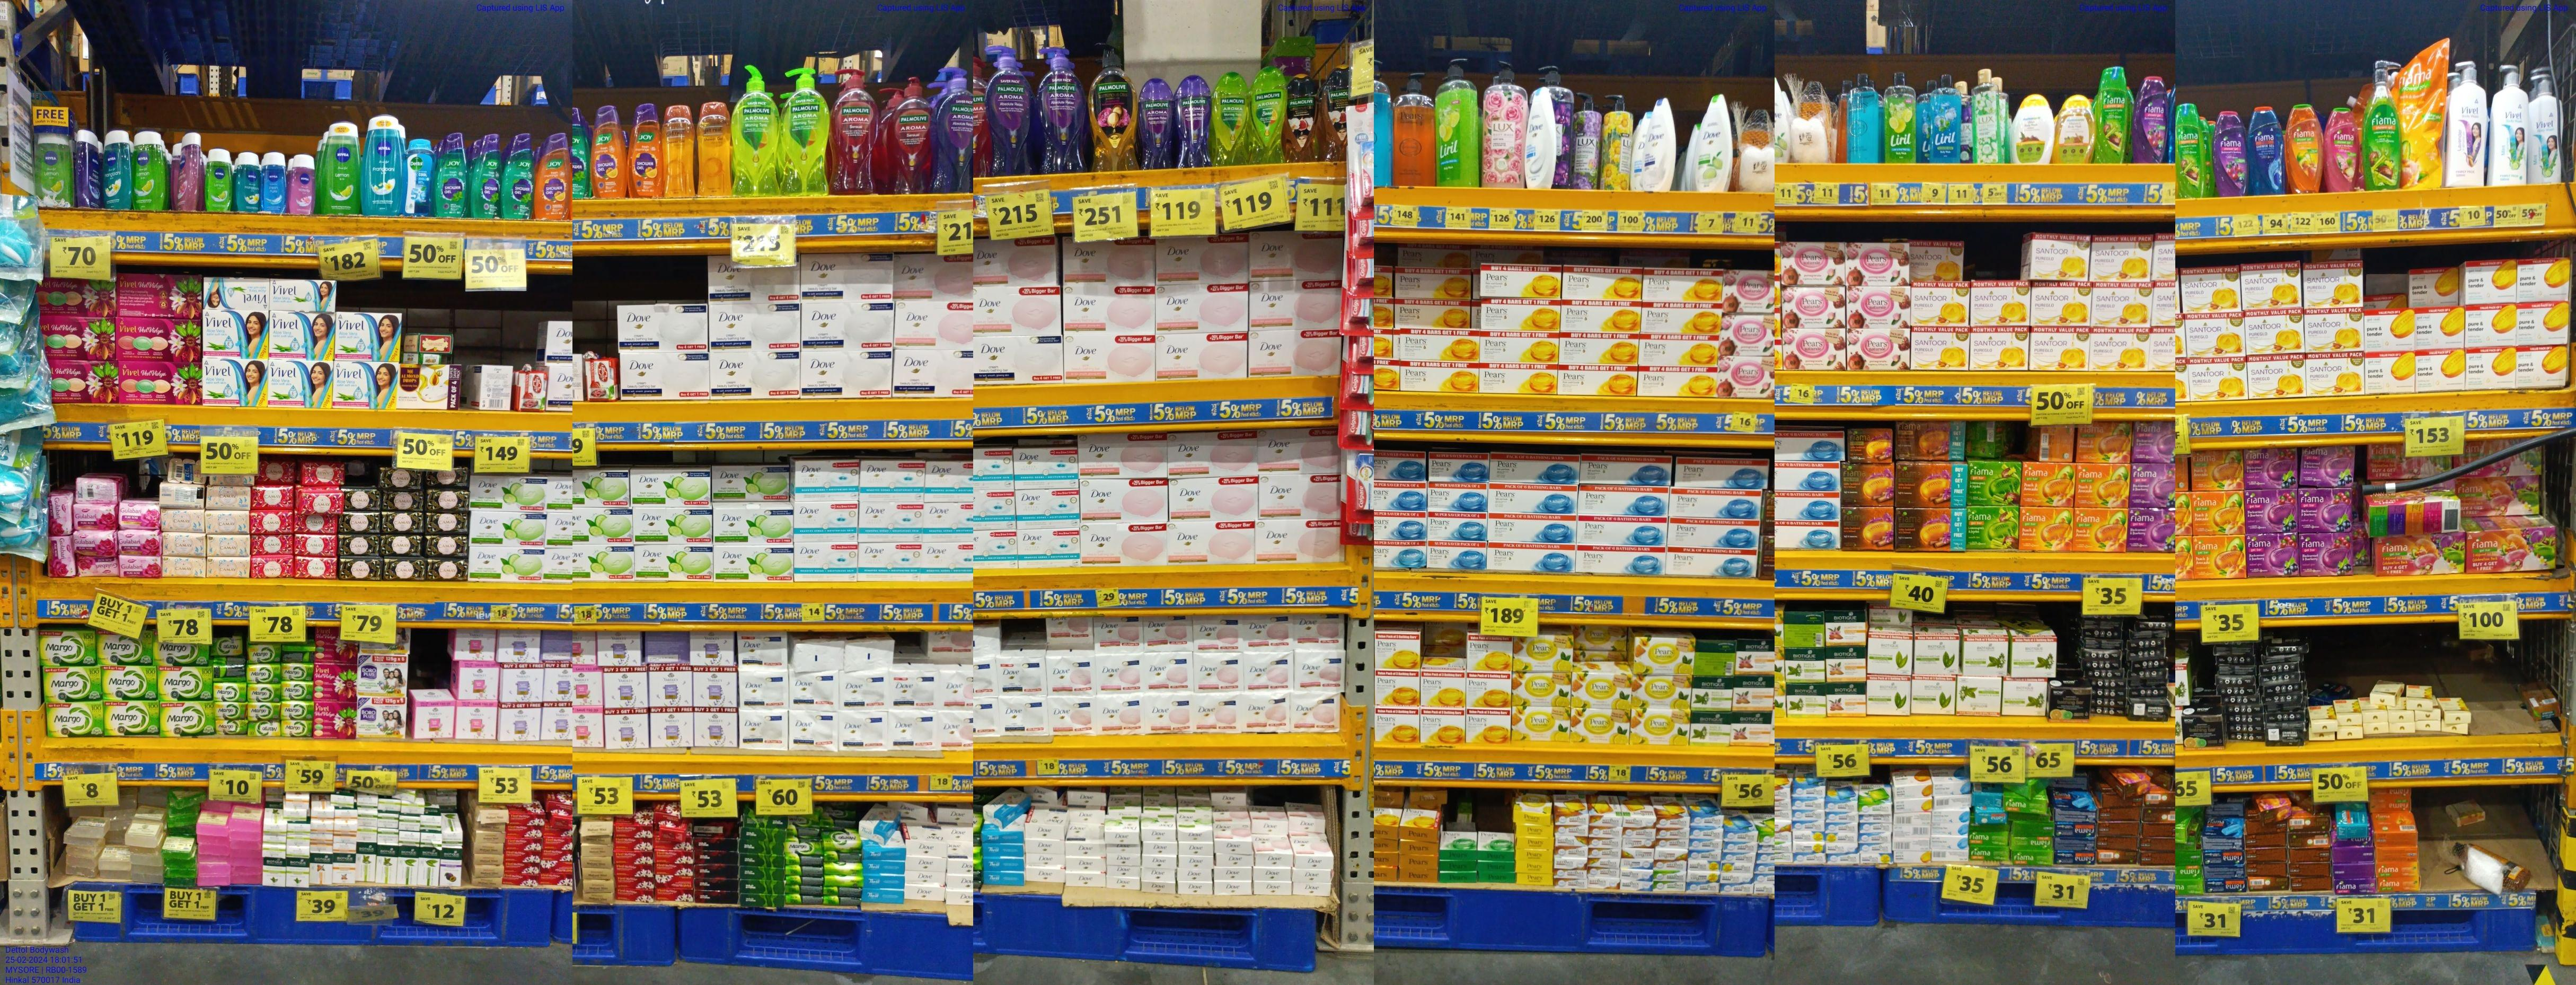Dettol_Bodywash_Cool: (407, 138, 435, 215)
Dove_Deep_Moisture_Body_Wash_250ML: (1643, 95, 1677, 192)
Dove_Gentle_Exfoliating_Body_Wash_250ML: (1525, 87, 1557, 189)
Dove_Refreshing_Body_Wash_250ML: (1695, 94, 1733, 192)
Fiama_Shower_Gel_Lemongrass_and_Jojoba_250ML: (2095, 66, 2126, 164), (2175, 104, 2205, 199)
Fiama_Shower_Gel_Patchouli_and_Macadamia_250ML: (2326, 109, 2357, 191)
Fiama_Shower_Gel_Peach_and_Avocado_250ML: (2287, 104, 2323, 194)
Get_Real_Shower_Gel_Moisturising_Glycerin_300ML: (697, 102, 731, 197), (665, 105, 695, 197)
Joy_Shower_Gel_Mandarin_and_Lemongrass_250ML: (536, 133, 573, 219), (631, 104, 664, 199), (593, 105, 624, 199)
Joy_Shower_Gel_Mint_and_Eucalyptus_250ML: (503, 133, 534, 220), (439, 133, 467, 219), (476, 135, 501, 220)
Liril_Cooling_Mint_Body_Wash_250ML: (1930, 76, 1963, 164)
Liril_Lime_and_Tea_Tree_Oil_Body_Wash_250ML: (1883, 71, 1917, 163)
Lux_Body_Wash_Skin_Detox_Freesia_Scent_and_Alove_Vera_245ML: (1971, 67, 2003, 163)
Nivea_Shower_Gel_Frangipani_and_Oil_250ML: (363, 115, 404, 214), (102, 128, 131, 210)
Nivea_Shower_Gel_Lemon_and_Oil_250ML: (325, 120, 360, 215), (36, 130, 74, 210), (133, 130, 164, 212)
Nivea_Shower_Gel_Waterlily_and_Oil_250ML: (181, 133, 200, 210)
Palmolive_Aroma_Morning_Tonic_Shower_Gel_250ML: (1252, 67, 1288, 164), (1216, 72, 1250, 164)
Palmolive_Aroma_Relax_250ML: (1173, 76, 1212, 168), (1143, 79, 1173, 169)
Pears_Pure_Glycerin_and_Mint_Extracts_Body_Wash_250ML: (1850, 74, 1878, 163)
